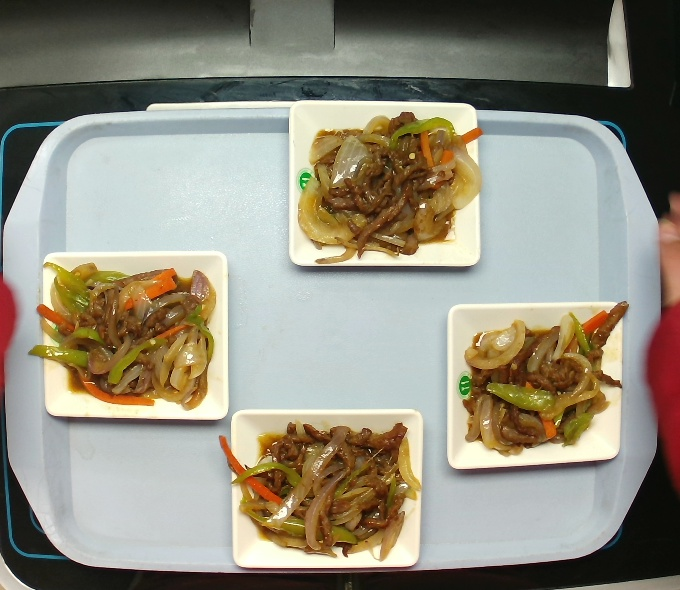wcq-NiuYangCongNiuLiu: (231, 405, 414, 564), (451, 297, 630, 456), (33, 259, 211, 408), (297, 114, 479, 258)
